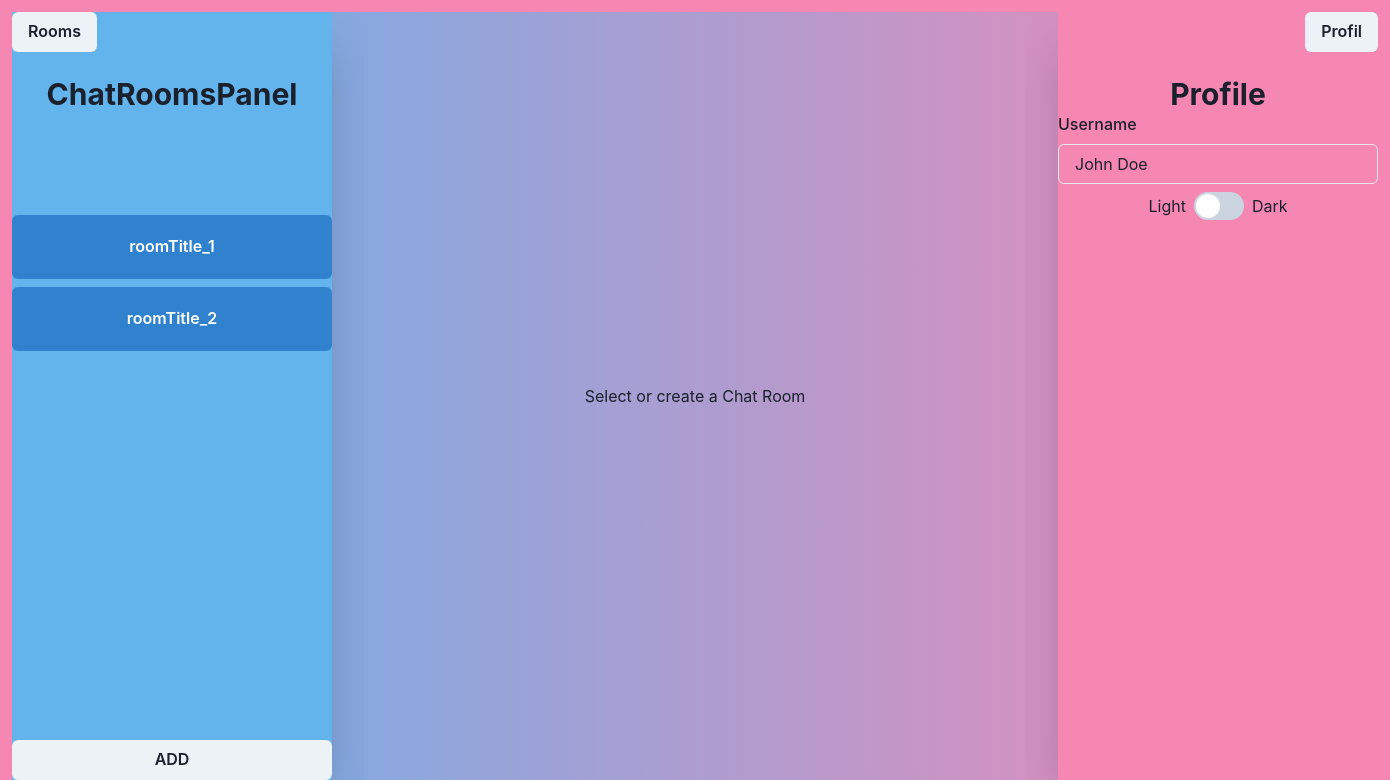
Test: Dashboard acts correctly › Should select a chat room
Expected: the heading "Select or create a Chat Room" is shown, [585,384,805,408]
Expected: the text "roomDescription_1" is not shown
Click the button "roomTitle_1" at coordinates (172, 247), box [12,215,332,279]
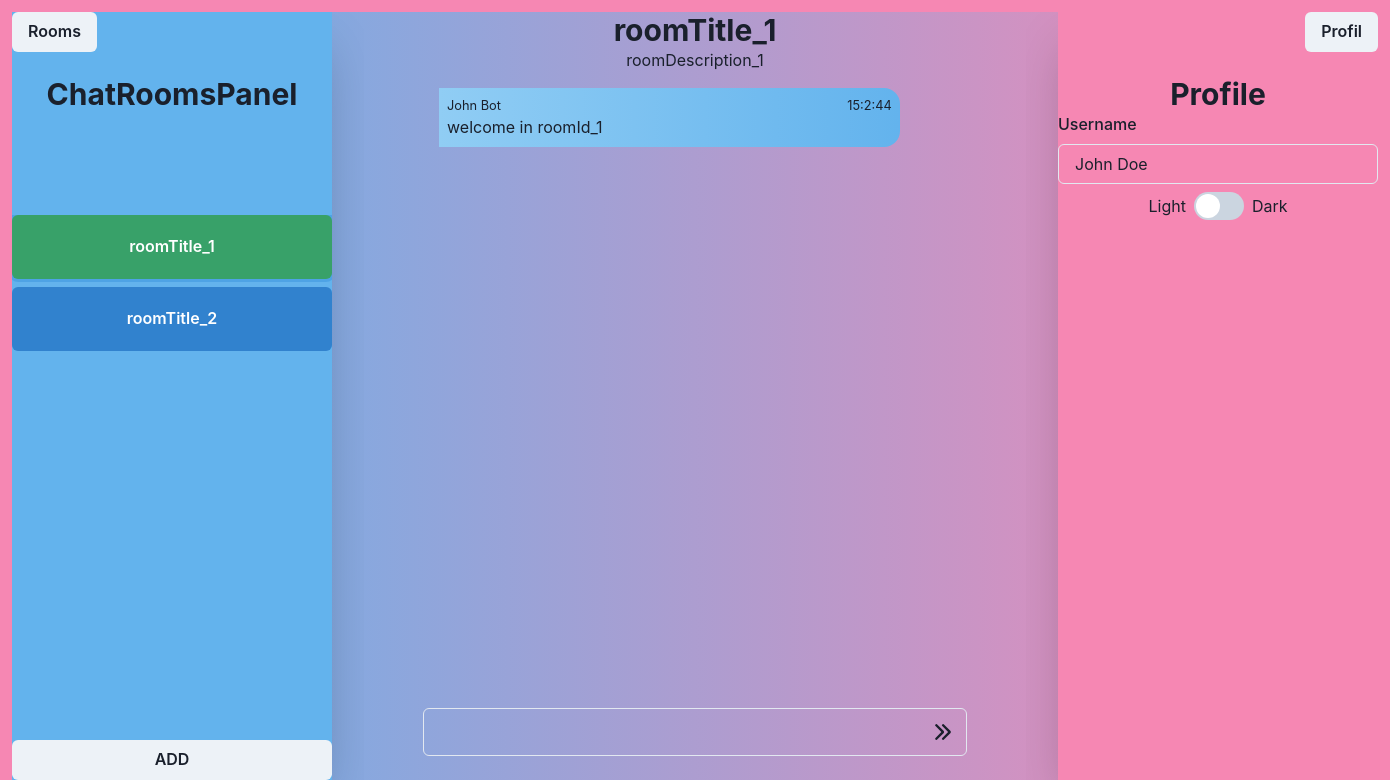
Now the text "roomDescription_1" is shown, box [626,50,764,70]
Now the heading "Select or create a Chat Room" is gone
